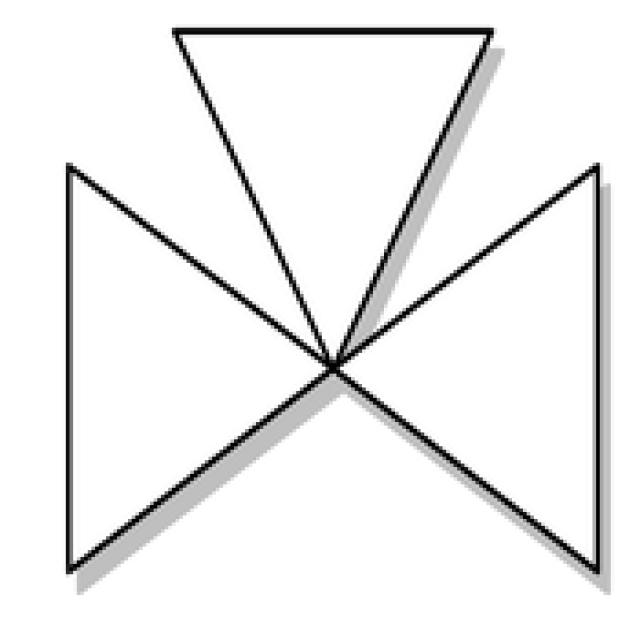3-way Valve: (172, 28, 495, 365), (68, 164, 331, 567), (334, 168, 597, 569)
